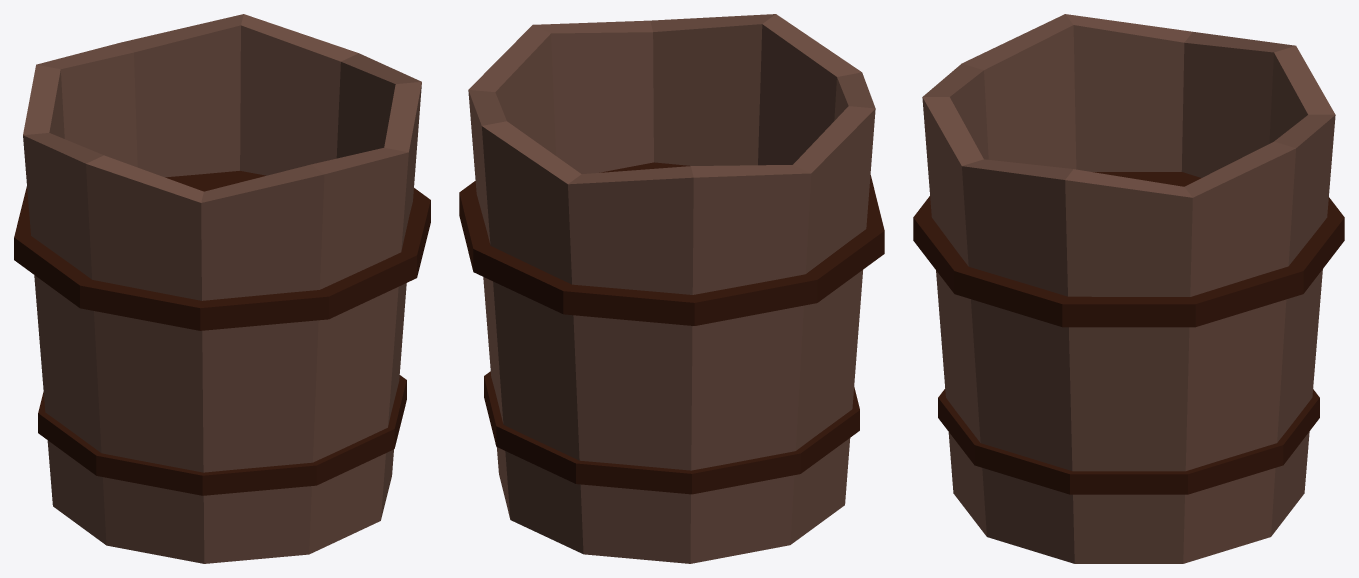
The model's file is Bucket_3.fbx.
3 renders of one model, left to right at view 1: azimuth 30°, elevation 25°; view 2: azimuth 150°, elevation 25°; view 3: azimuth 270°, elevation 25°, orthographic. The views are drawn at different scales.
Visible parts, largest first — view 1: Circle.006, Circle.007, Circle.009; view 2: Circle.006, Circle.007, Circle.009; view 3: Circle.006, Circle.007, Circle.009.
Boxes of the visible parts, x1,y1,x2,y2 form: Circle.006: (23,14,421,563); Circle.007: (14,171,430,330); Circle.009: (38,375,406,495); Circle.006: (468,14,875,563); Circle.007: (459,162,884,325); Circle.009: (484,371,859,494); Circle.006: (922,14,1335,563); Circle.007: (913,172,1344,327); Circle.009: (938,388,1319,494).
Bounding box in the file's own units: 199 × 212 × 209.
